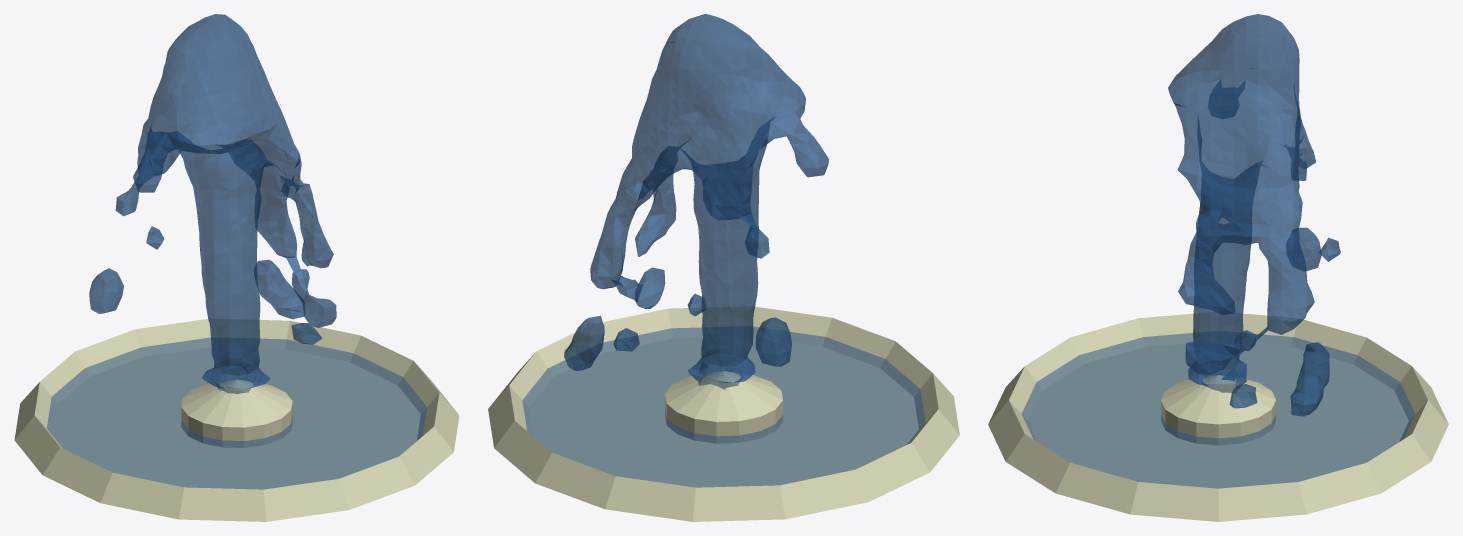
Rendered from fountainExport.fbx.
3 renders of one model, left to right at view 1: azimuth 30°, elevation 25°; view 2: azimuth 150°, elevation 25°; view 3: azimuth 270°, elevation 25°, orthographic. The views are drawn at different scales.
Parts seen in each view (by area): view 1: fountainbase, Domain, fountainwater; view 2: fountainbase, Domain, fountainwater; view 3: fountainbase, Domain, fountainwater.
Boxes of the visible parts, box(x1,y1,x2,y2) form: fountainbase: box(14, 319, 459, 521); Domain: box(89, 14, 336, 393); fountainwater: box(47, 337, 426, 489); fountainbase: box(488, 306, 959, 521); Domain: box(564, 14, 828, 414); fountainwater: box(522, 326, 925, 487); fountainbase: box(988, 312, 1448, 521); Domain: box(1168, 14, 1340, 416); fountainwater: box(1022, 333, 1414, 488).
Size of the model in its own units: 120 by 117 by 120.
